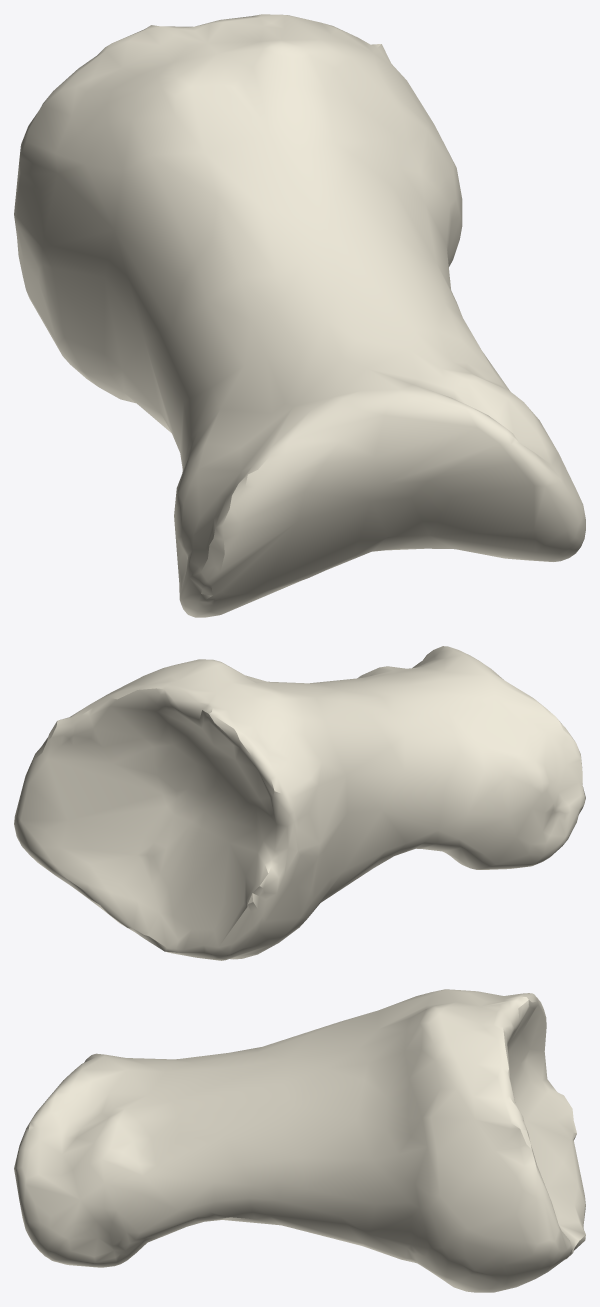
The model's file is fma43253.glb.
3 views of the same model, one above another, from view 1: azimuth 30°, elevation 25°; view 2: azimuth 150°, elevation 25°; view 3: azimuth 270°, elevation 25° (orthographic). The views are drawn at different scales.
Visible parts, largest first — view 1: FMA43253; view 2: FMA43253; view 3: FMA43253.
Part boxes in pixels (box(x1,y1,x2,y2)): FMA43253: box(14, 14, 585, 617); FMA43253: box(14, 646, 585, 960); FMA43253: box(14, 989, 585, 1292).
Bounding box in the file's own units: 0.0255 × 0.0174 × 0.0335.
